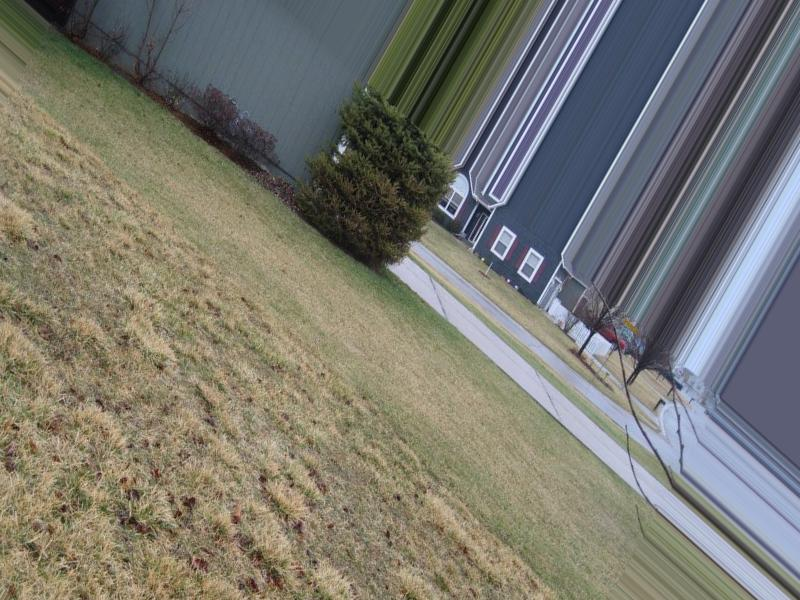patch: (139, 302, 301, 600), (1, 178, 115, 600), (316, 463, 403, 589), (377, 328, 468, 426), (207, 219, 301, 295), (409, 516, 463, 600)
